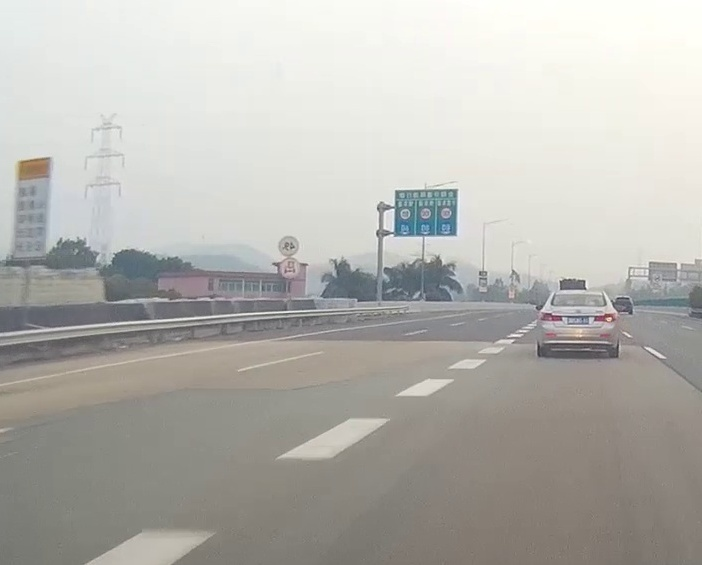L_light: (540, 312, 563, 321)
R_light: (593, 313, 615, 323)
T_light: (574, 293, 587, 296)
day-right: (538, 290, 617, 358)
